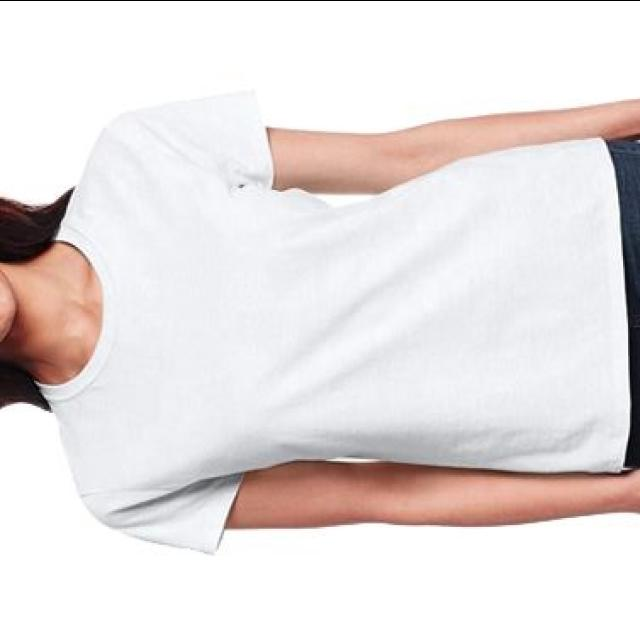shoulder: (64, 100, 216, 552)
